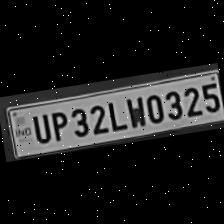0: (141, 89, 166, 124)
2: (86, 100, 109, 135), (180, 82, 202, 118)
3: (66, 103, 90, 139), (160, 86, 182, 121)
5: (197, 77, 222, 114)
L: (103, 96, 126, 132)
P: (45, 106, 69, 141)
U: (28, 109, 52, 144)
W: (122, 91, 146, 128)
